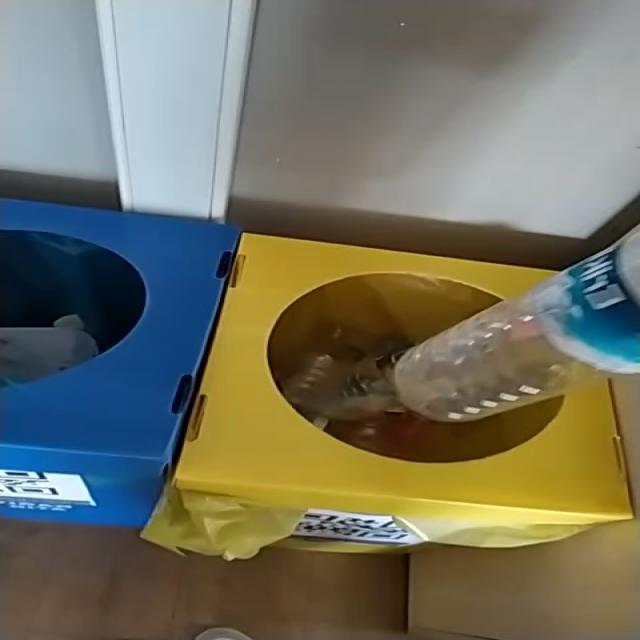plastic: (387, 228, 639, 423)
